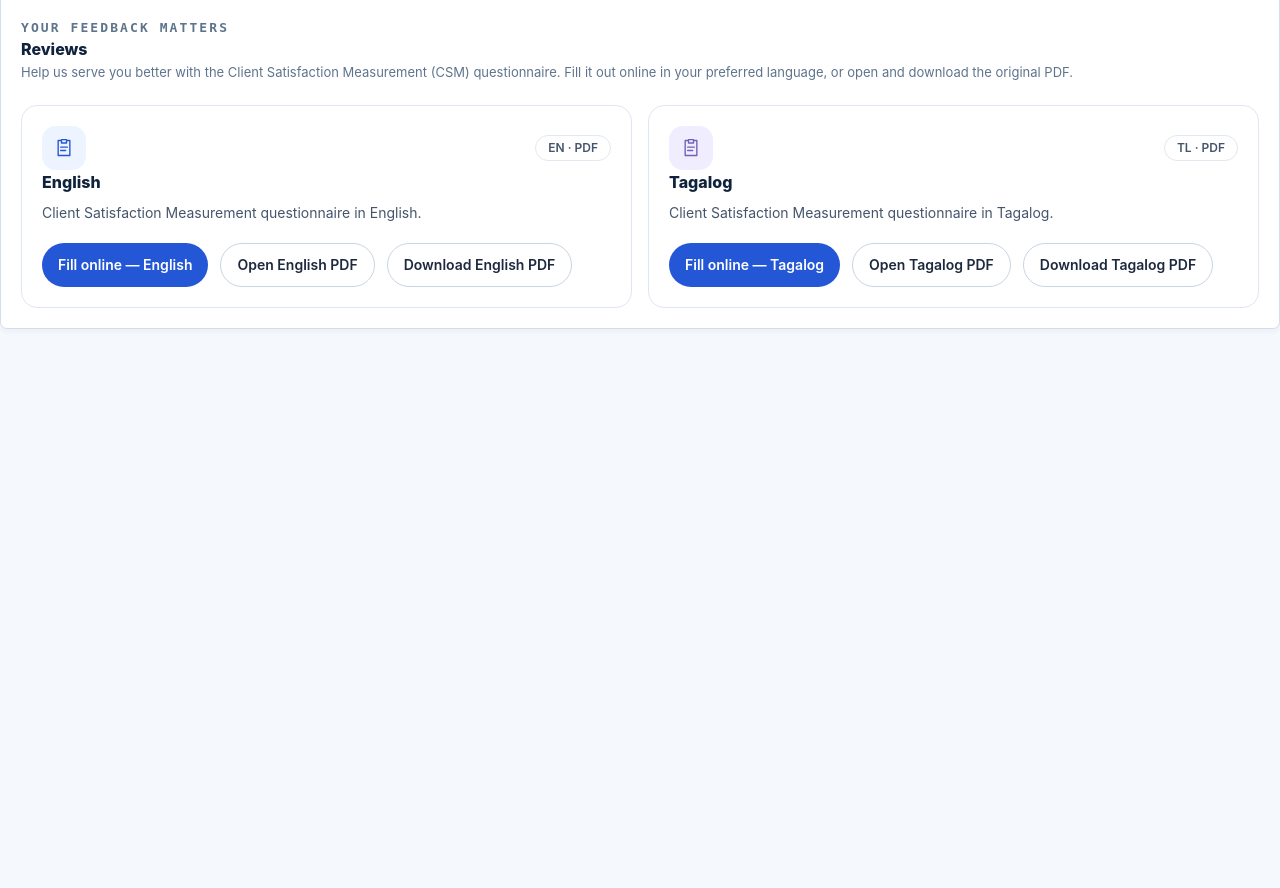
Test: online CSM form › offers both online languages alongside the original PDFs
The width and height of the screenshot is (1280, 888).
Expected: the number of links "Open English PDF" is 2, [220,243,375,287]; [852,243,1011,287]
Click the button "Fill online — Tagalog". click: coordinates (755, 265)
box: [669,243,840,287]
(page scrolled)
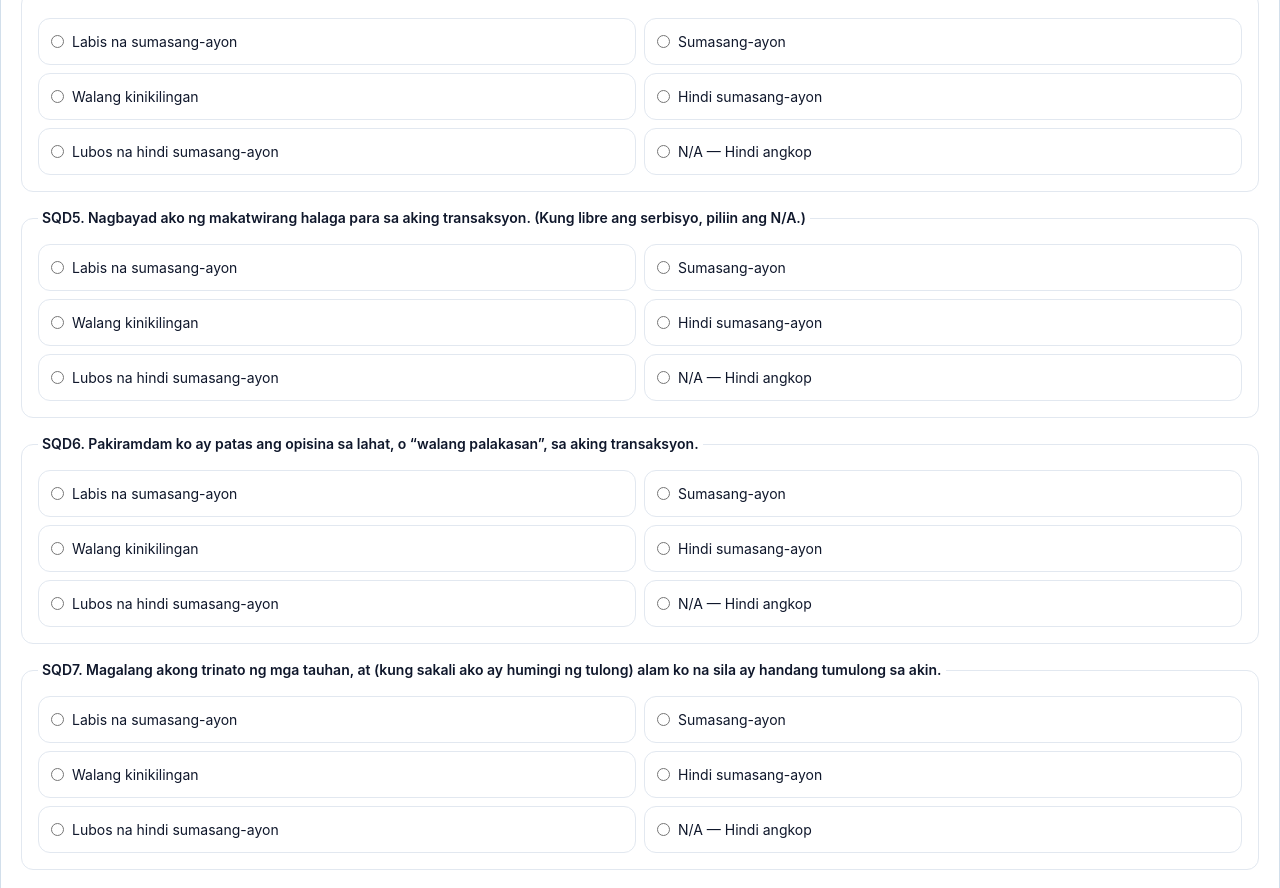
Now the text "walang palakasan" is shown, box [42,435,699,452]
